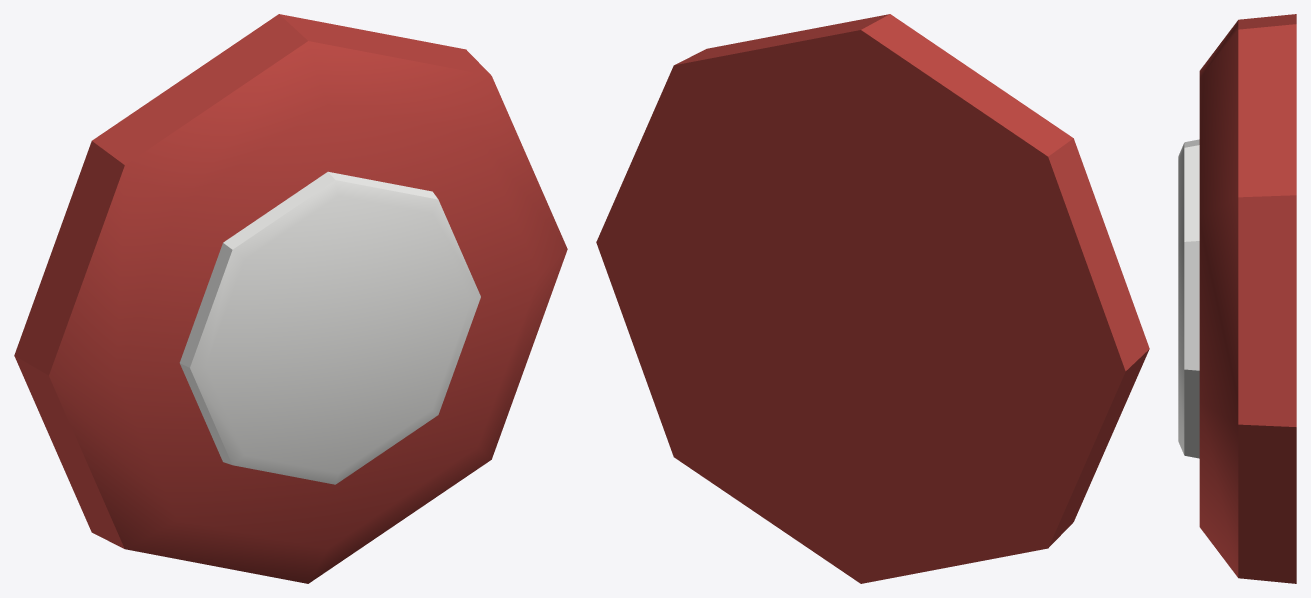
The model's file is clutch_lod2.glb.
3 renders of one model, left to right at view 1: azimuth 30°, elevation 25°; view 2: azimuth 150°, elevation 25°; view 3: azimuth 270°, elevation 25°, orthographic.
Visible parts, largest first — view 1: clutch_lod2; view 2: clutch_lod2; view 3: clutch_lod2.
Boxes of the visible parts, box(x1,y1,x2,y2) form: clutch_lod2: box(14, 14, 567, 583); clutch_lod2: box(596, 14, 1149, 583); clutch_lod2: box(1178, 14, 1296, 583).
Size of the model in its own units: 0.2 by 0.2 by 0.039.
